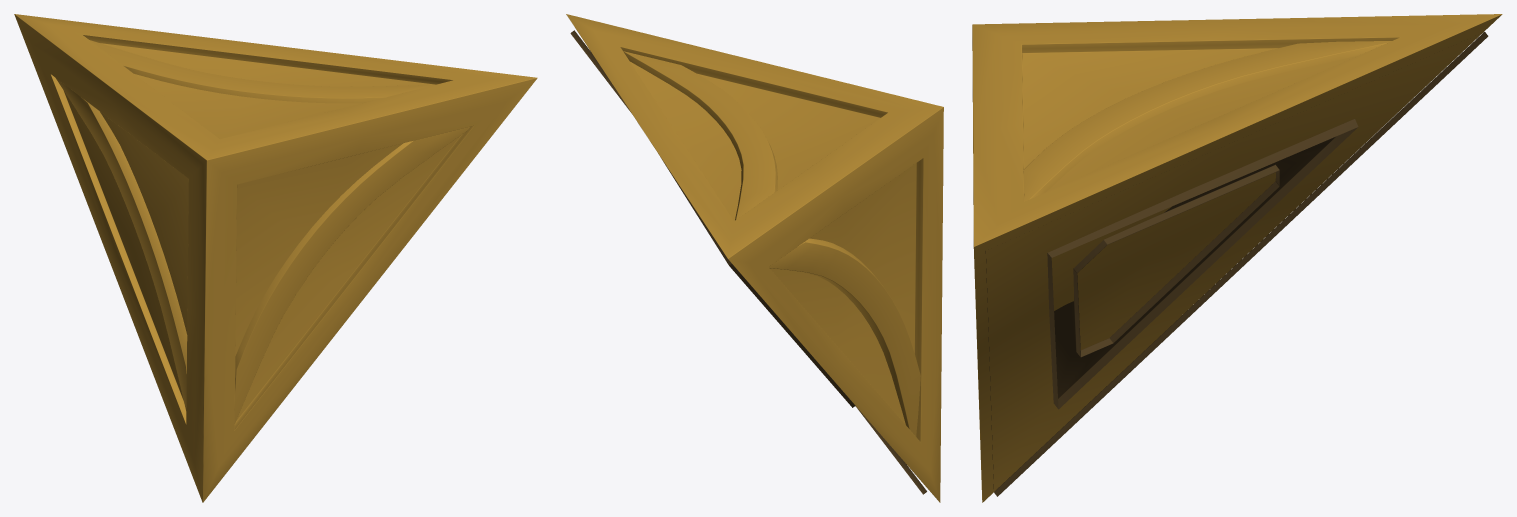
File: Holocron_Esquina_SupIzqFre.obj
3 renders of one model, left to right at view 1: azimuth 30°, elevation 25°; view 2: azimuth 150°, elevation 25°; view 3: azimuth 270°, elevation 25°, orthographic. The views are drawn at different scales.
Parts seen in each view (by area): view 1: Holocron_Esquina_SupIzqFre; view 2: Holocron_Esquina_SupIzqFre; view 3: Holocron_Esquina_SupIzqFre.
Part boxes in pixels (<box>): Holocron_Esquina_SupIzqFre: <box>14,14,537,502</box>; Holocron_Esquina_SupIzqFre: <box>566,14,943,502</box>; Holocron_Esquina_SupIzqFre: <box>972,14,1502,502</box>.
Size of the model in its own units: 5.19 by 5.22 by 5.14.
